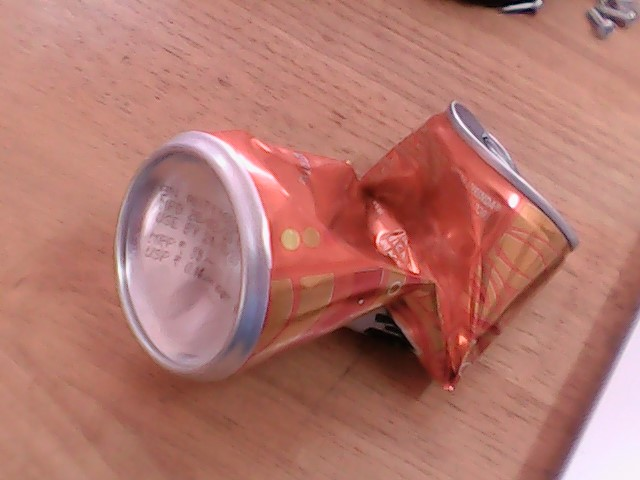Metal: (87, 128, 598, 373)
